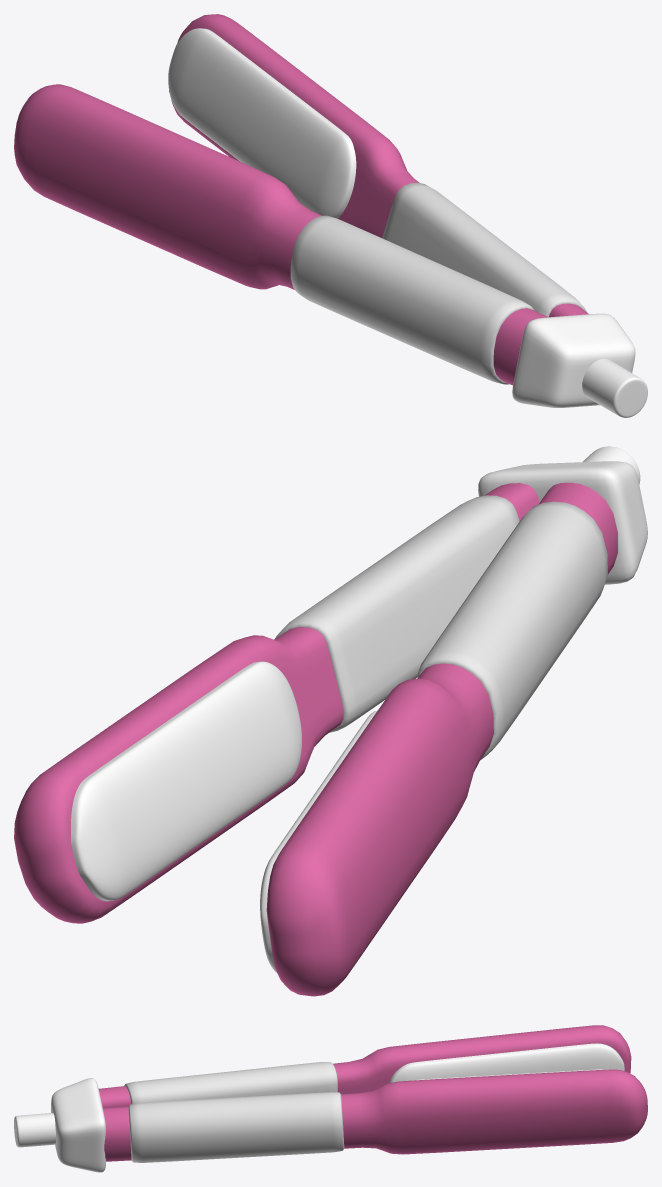
Rendered from hair-straightener-3d-animated-icon-1268848527791.glb.
3 renders of one model, top to bottom at view 1: azimuth 30°, elevation 25°; view 2: azimuth 150°, elevation 25°; view 3: azimuth 270°, elevation 25°, orthographic. The views are drawn at different scales.
Visible parts, largest first — view 1: Cube.016, Cube.018, Cube.014, Cube.019, Cube.015, Cube.013; view 2: Cube.016, Cube.014, Cube.013, Cube.015, Cube.018, Cube.019, Cube.017; view 3: Cube.013, Cube.015, Cube.016, Cube.018, Cube.019, Cube.017, Cube.014.
Boxes of the visible parts, bbox=[...] form: Cube.016: bbox=[14, 84, 548, 385]; Cube.018: bbox=[290, 215, 533, 384]; Cube.014: bbox=[168, 28, 356, 218]; Cube.019: bbox=[512, 313, 647, 417]; Cube.015: bbox=[382, 182, 587, 316]; Cube.013: bbox=[169, 14, 588, 317]; Cube.016: bbox=[266, 482, 617, 996]; Cube.014: bbox=[71, 661, 301, 901]; Cube.013: bbox=[14, 483, 539, 923]; Cube.015: bbox=[275, 495, 519, 732]; Cube.018: bbox=[417, 501, 607, 760]; Cube.019: bbox=[478, 446, 647, 584]; Cube.017: bbox=[260, 710, 377, 972]; Cube.013: bbox=[103, 1069, 647, 1161]; Cube.015: bbox=[128, 1092, 344, 1162]; Cube.016: bbox=[98, 1025, 631, 1108]; Cube.018: bbox=[124, 1062, 337, 1104]; Cube.019: bbox=[14, 1078, 105, 1172]; Cube.017: bbox=[389, 1043, 624, 1082]; Cube.014: bbox=[413, 1069, 608, 1080].
Bounding box in the file's own units: 1.98 × 0.9732 × 6.
